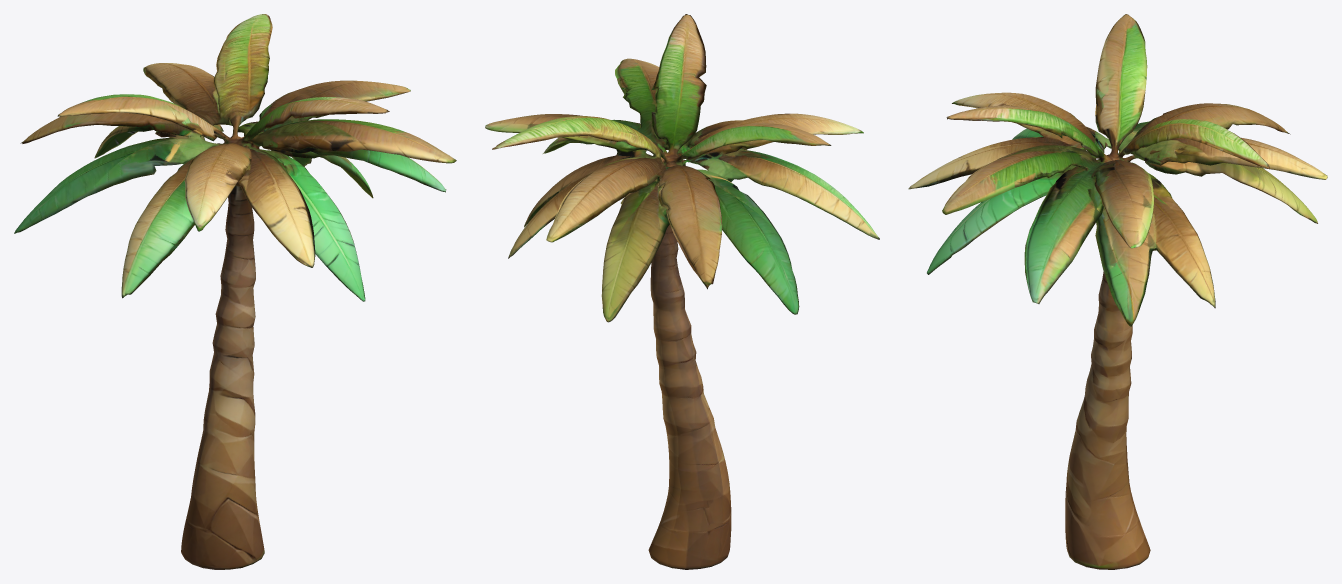
The model's file is palm-tree.glb.
The picture shows the model from 3 angles, left to right: view 1: azimuth 30°, elevation 25°; view 2: azimuth 150°, elevation 25°; view 3: azimuth 270°, elevation 25°; orthographic projection. The views are drawn at different scales.
Size of the model in its own units: 1.56 by 2 by 1.59.
Materials: 1 (1 with a texture image).
